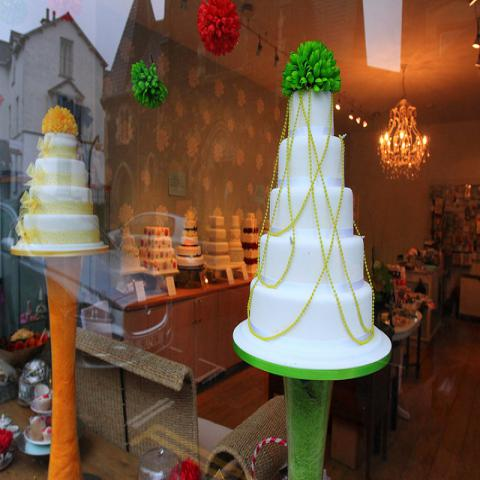car: (2, 179, 183, 370)
